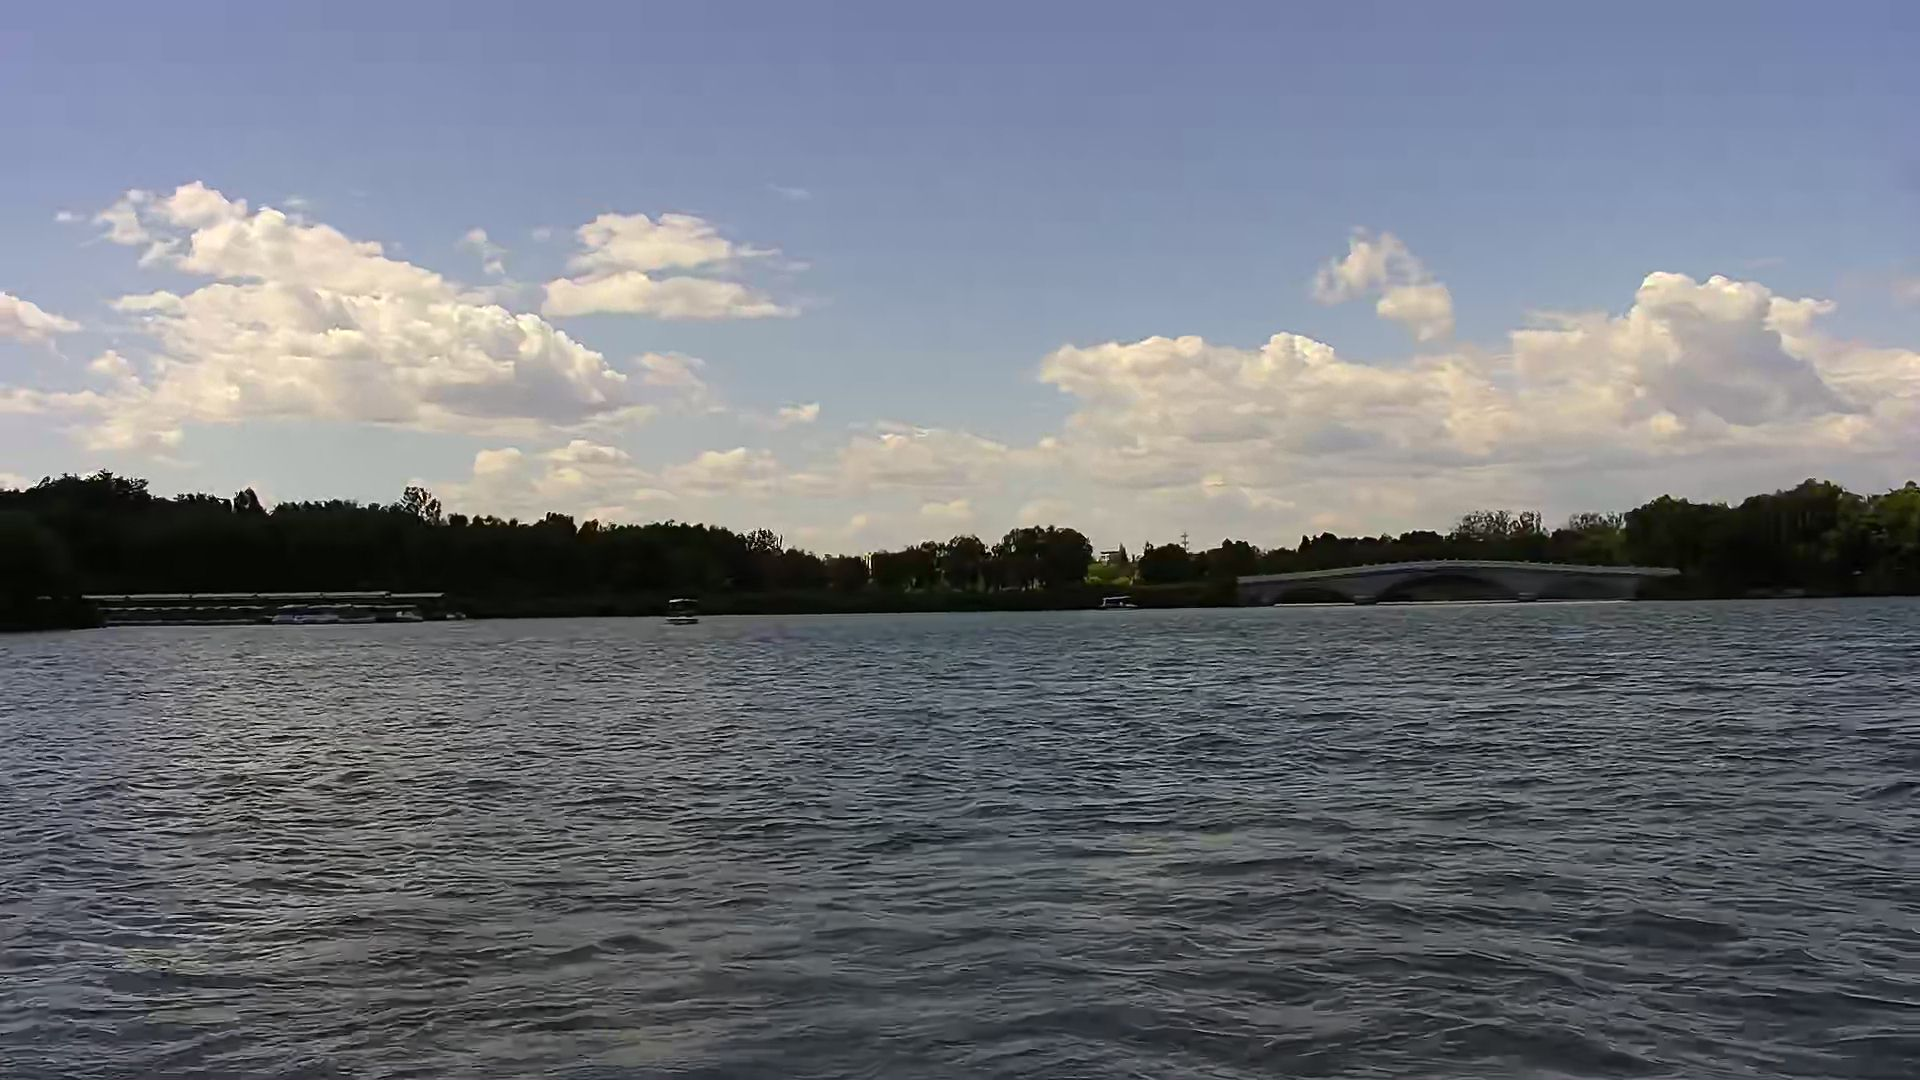boat: (657, 589, 707, 632)
bridge: (1236, 554, 1676, 608)
harbor: (91, 582, 458, 622)
